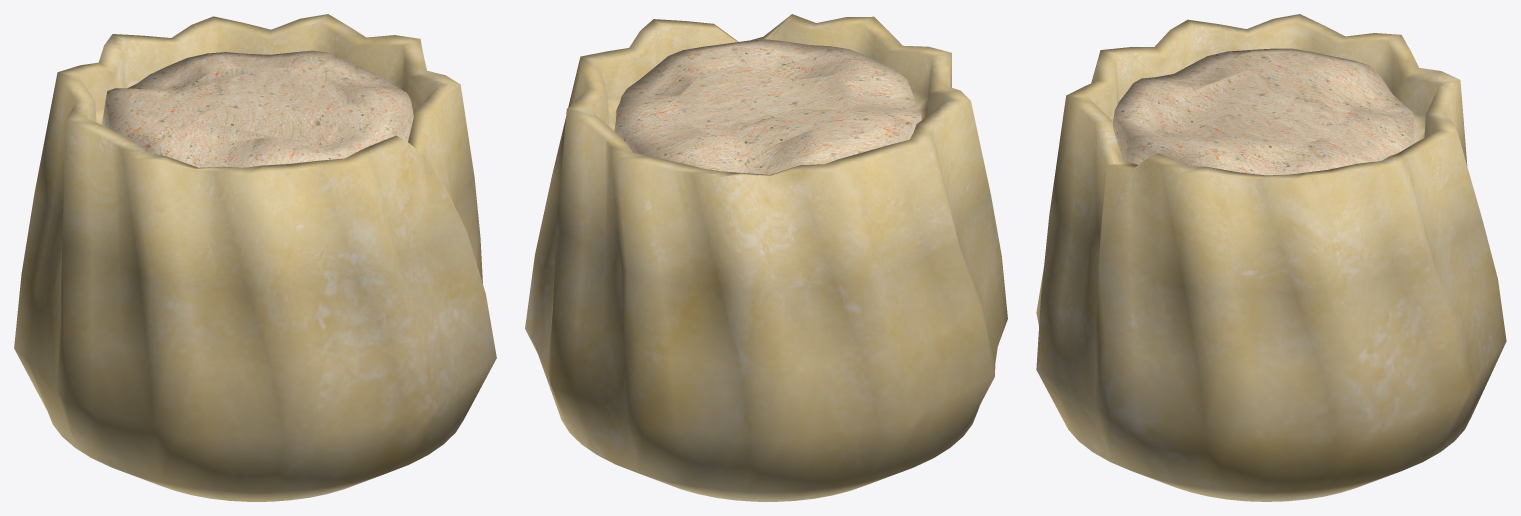
File: Siomay Mentah.fbx
3 renders of one model, left to right at view 1: azimuth 30°, elevation 25°; view 2: azimuth 150°, elevation 25°; view 3: azimuth 270°, elevation 25°, orthographic.
Visible parts, largest first — view 1: Siomay Mentah; view 2: Siomay Mentah; view 3: Siomay Mentah.
Boxes of the visible parts, x1=… form: Siomay Mentah: x1=14, y1=14, x2=496, y2=501; Siomay Mentah: x1=525, y1=14, x2=1007, y2=501; Siomay Mentah: x1=1036, y1=14, x2=1506, y2=501.
Bounding box in the file's own units: 2.99 × 2.4 × 2.96.
Materials: 1 (1 with a texture image).
